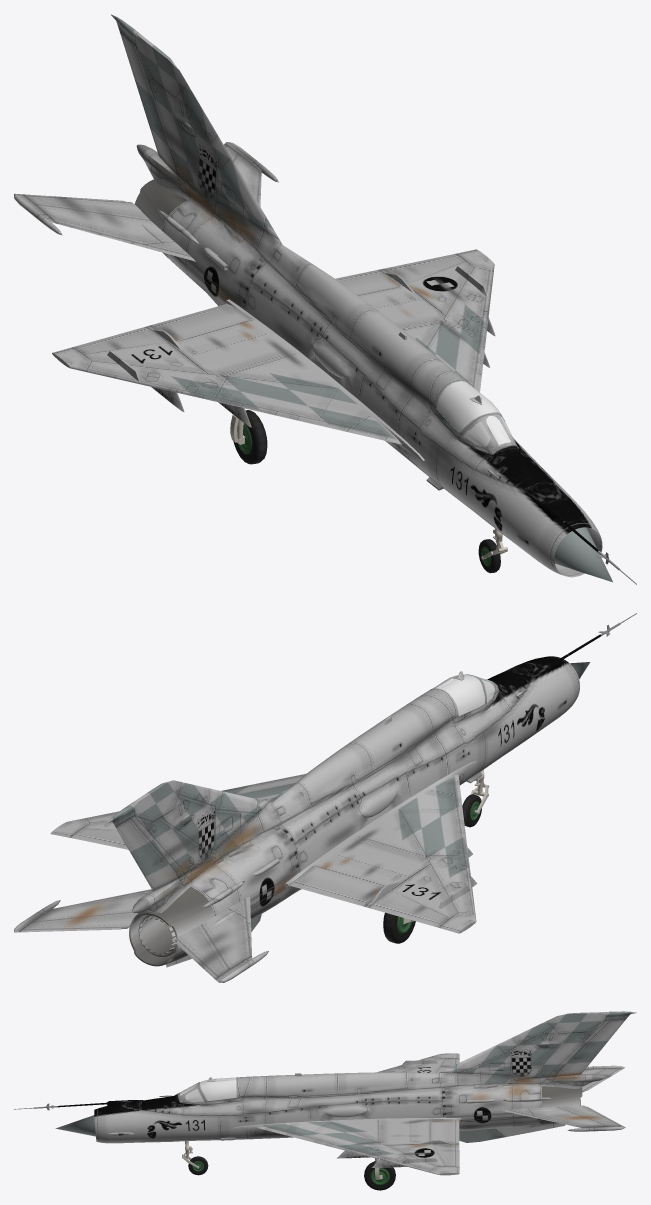
File: fighter_mig21.glb
3 views of the same model, one above another, from view 1: azimuth 30°, elevation 25°; view 2: azimuth 150°, elevation 25°; view 3: azimuth 270°, elevation 25° (orthographic). The views are drawn at different scales.
Visible parts, largest first — view 1: lamp; view 2: lamp; view 3: lamp.
Part boxes in pixels (x1,y1,x2,y2): lamp: (14,14,636,584); lamp: (14,613,636,982); lamp: (14,1011,636,1190).
Bounding box in the file's own units: 7.17 × 4.56 × 15.76.
Materials: 5 (3 with a texture image).
